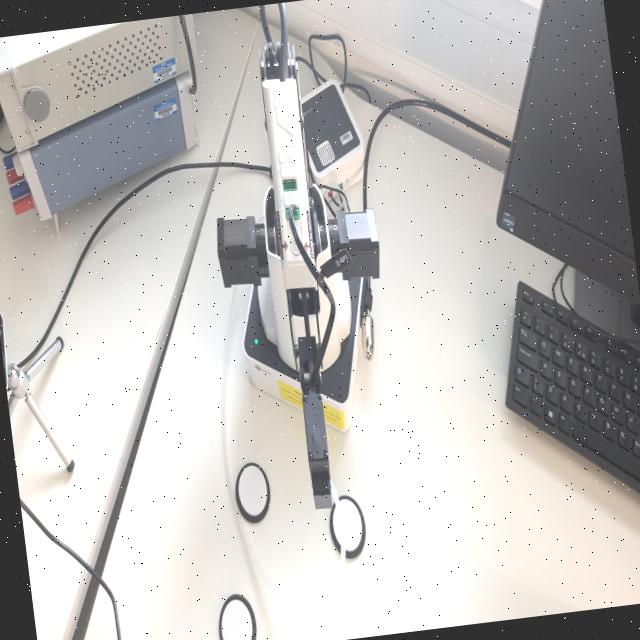Robot-end-effector-HF8z: (291, 386, 344, 516)
